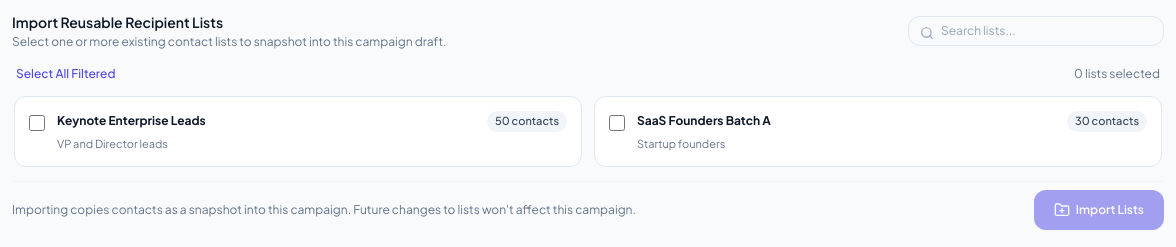
it: CampaignRecipientListSelector (Milestone R4) › filters recipient lists by search input
Expected: the heading "Keynote Enterprise Leads" is shown, 57,113 -> 206,129
Type "Founders" into the field with placeholder "Search lists..." at (1036, 31), box 908,16 -> 1164,46
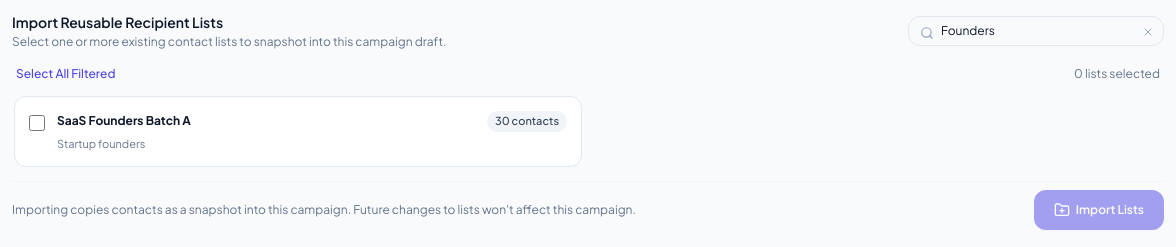
Expected: the heading "SaaS Founders Batch A" is shown, 57,113 -> 191,129
Expected: the heading "Keynote Enterprise Leads" is gone
